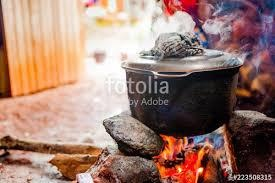fire: (157, 122, 237, 180)
